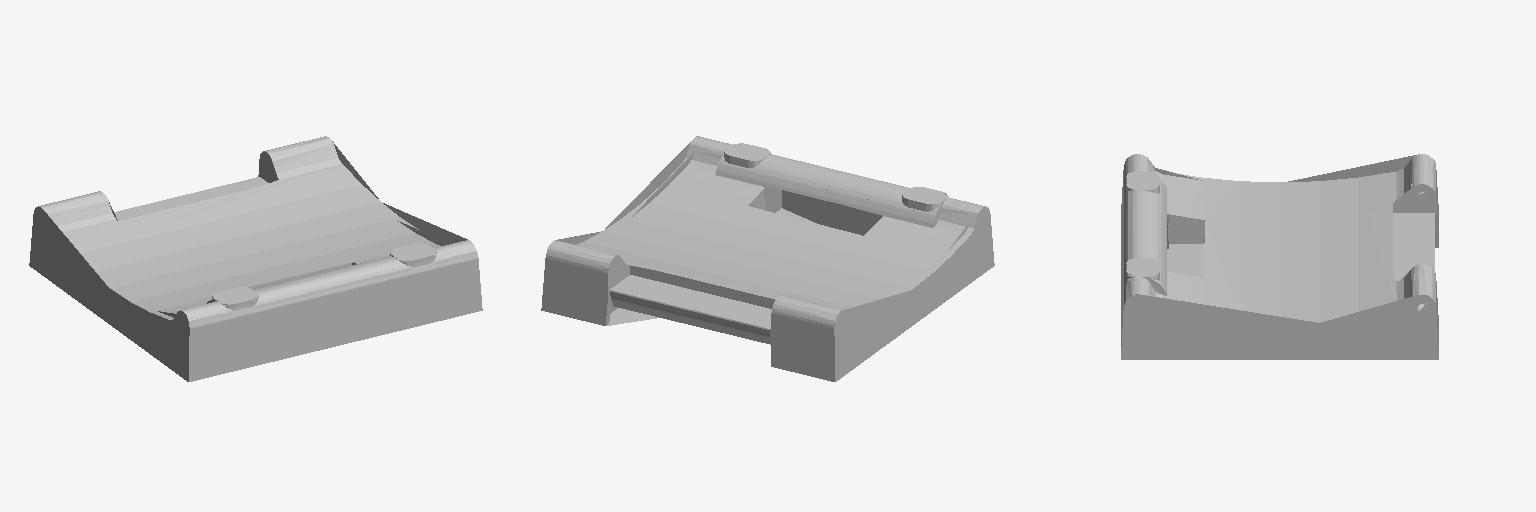
The picture shows the model from 3 angles: view 1: azimuth 30°, elevation 25°; view 2: azimuth 150°, elevation 25°; view 3: azimuth 270°, elevation 25°; orthographic projection.
Parts seen in each view (by area): view 1: 5418-Sr_5418-Sr.002; view 2: 5418-Sr_5418-Sr.002; view 3: 5418-Sr_5418-Sr.002.
Part boxes in pixels (x1,y1,x2,y2): 5418-Sr_5418-Sr.002: (29, 136, 482, 381); 5418-Sr_5418-Sr.002: (541, 136, 994, 381); 5418-Sr_5418-Sr.002: (1121, 154, 1438, 359).
Size of the model in its own units: 1.83 by 0.3831 by 1.71.